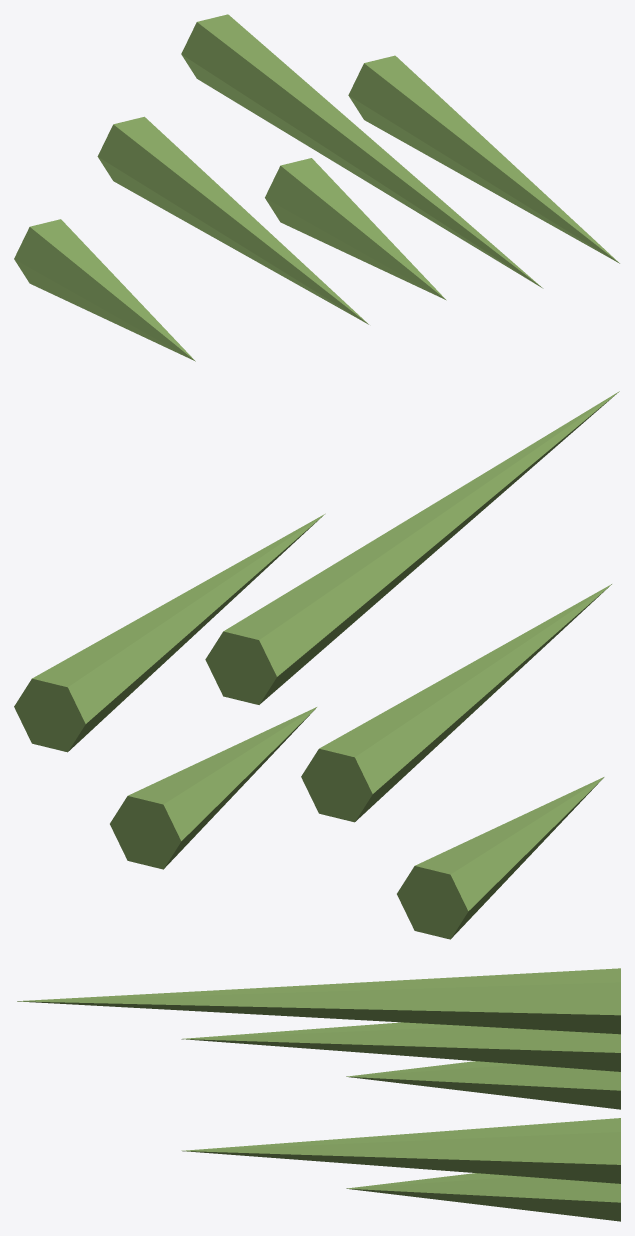
Rendered from grass_var_4.glb.
The picture shows the model from 3 angles, top to bottom: view 1: azimuth 30°, elevation 25°; view 2: azimuth 150°, elevation 25°; view 3: azimuth 270°, elevation 25°; orthographic projection. The views are drawn at different scales.
Visible parts, largest first — view 1: world; view 2: world; view 3: world.
Part boxes in pixels (x1=…): world: x1=14, y1=14, x2=619, y2=361; world: x1=14, y1=391, x2=619, y2=939; world: x1=17, y1=968, x2=620, y2=1221.
Size of the model in its own units: 0.38 by 0.202 by 0.55.
